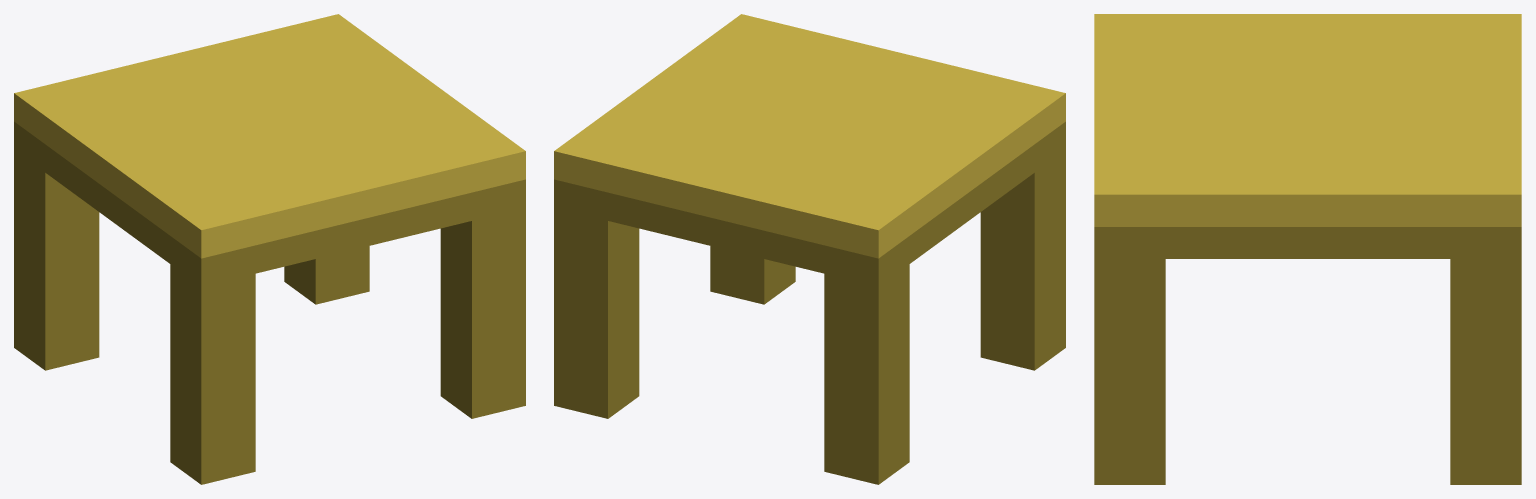
The model's file is mesa_hidromiel_01.glb.
3 views of the same model, side by side, from view 1: azimuth 30°, elevation 25°; view 2: azimuth 150°, elevation 25°; view 3: azimuth 270°, elevation 25° (orthographic). The views are drawn at different scales.
Visible parts, largest first — view 1: mesa_hidromiel; view 2: mesa_hidromiel; view 3: mesa_hidromiel.
Boxes of the visible parts, x1,y1,x2,y2 form: mesa_hidromiel: (14, 14, 525, 484); mesa_hidromiel: (554, 14, 1065, 484); mesa_hidromiel: (1094, 14, 1521, 484).
Bounding box in the file's own units: 1 × 0.75 × 1.
